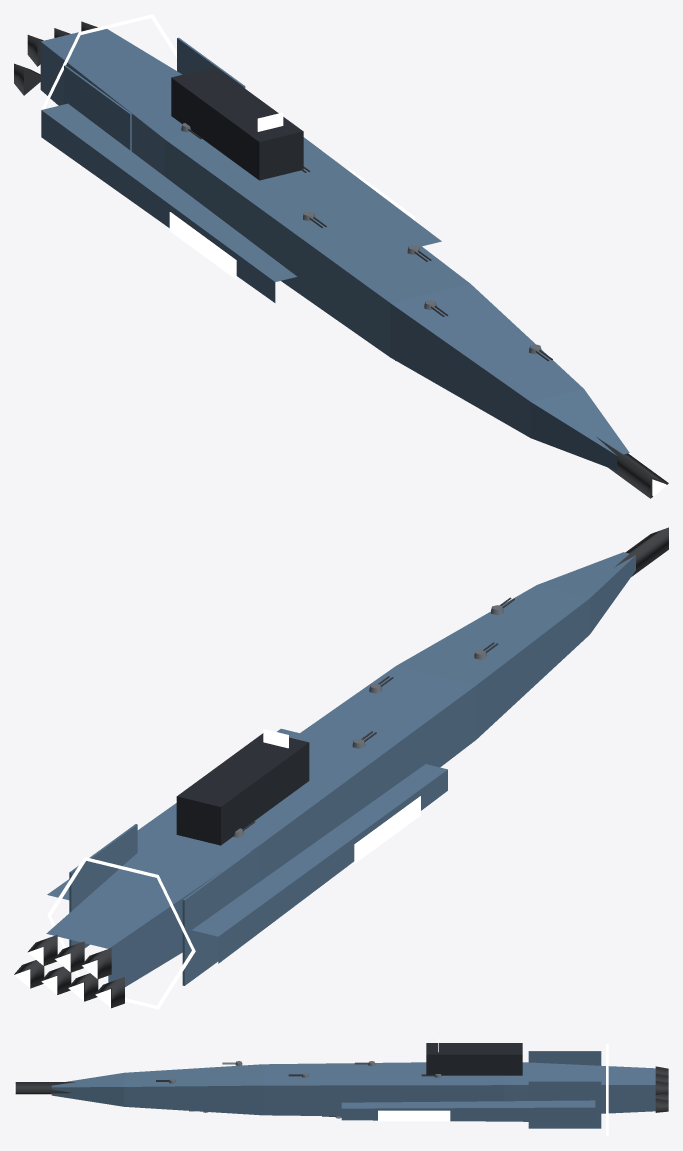
The model's file is space_ship_battleship_mk6_lod2.glb.
The picture shows the model from 3 angles, top to bottom: view 1: azimuth 30°, elevation 25°; view 2: azimuth 150°, elevation 25°; view 3: azimuth 270°, elevation 25°; orthographic projection. The views are drawn at different scales.
Visible parts, largest first — view 1: body, hangar_r, main_gun; view 2: body, hangar_r, main_gun; view 3: body, hangar_l, main_gun, engine_6, engine_5.
Boxes of the visible parts, x1,y1,x2,y2 form: body: [40, 14, 629, 470]; hangar_r: [169, 212, 236, 279]; main_gun: [596, 437, 668, 498]; body: [46, 552, 635, 1009]; hangar_r: [354, 796, 420, 863]; main_gun: [614, 527, 668, 576]; body: [51, 1038, 655, 1136]; hangar_l: [378, 1110, 450, 1121]; main_gun: [14, 1082, 75, 1094]; engine_6: [655, 1098, 668, 1112]; engine_5: [655, 1081, 668, 1095].
Size of the model in its own units: 28.5 by 23.54 by 165.
